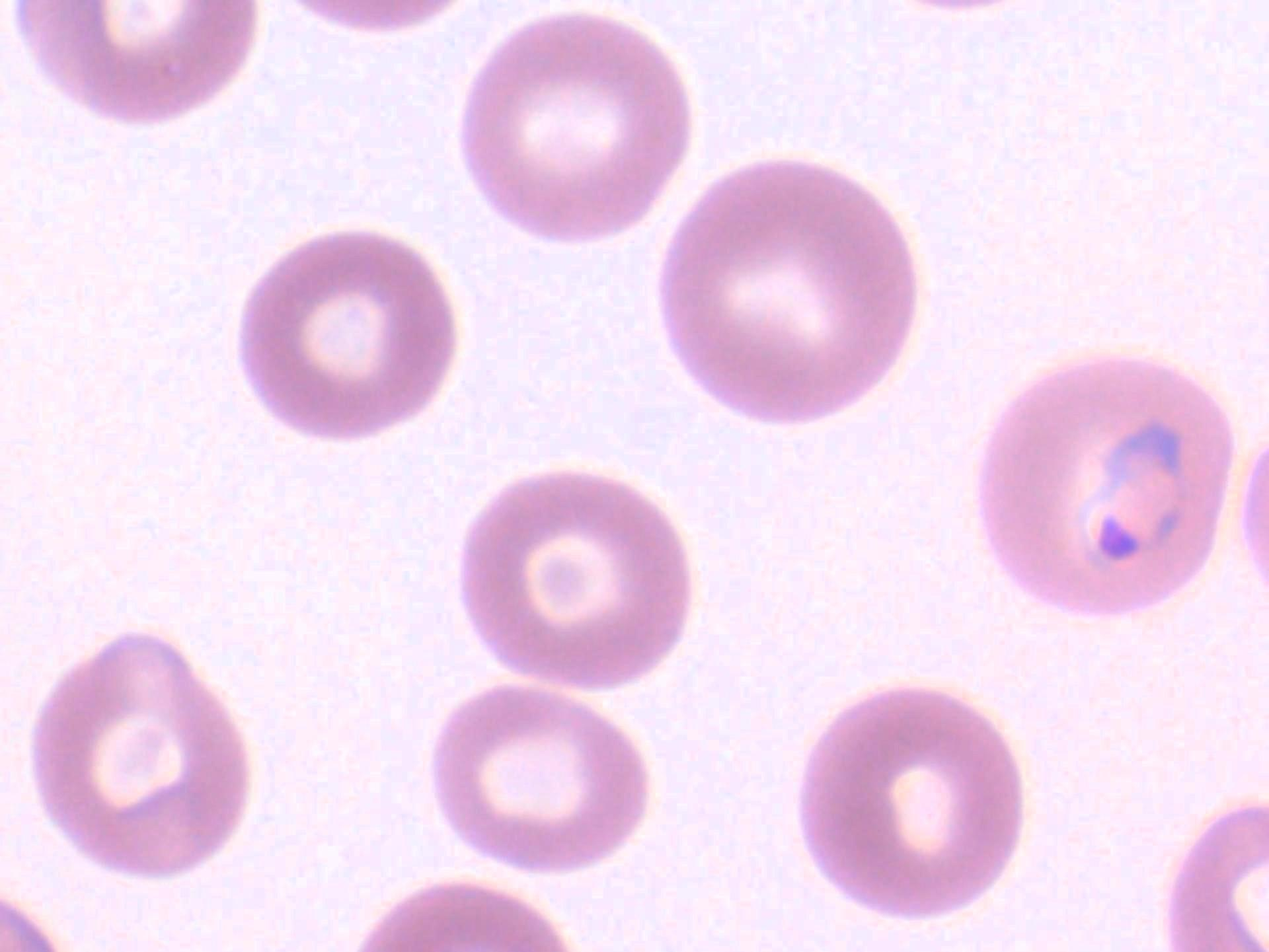Infected: (974, 355, 1232, 613)
Uninfected: (657, 161, 918, 428), (26, 631, 253, 879), (458, 14, 695, 241), (798, 690, 1028, 921), (454, 474, 693, 689), (234, 228, 458, 445), (432, 694, 651, 877)
